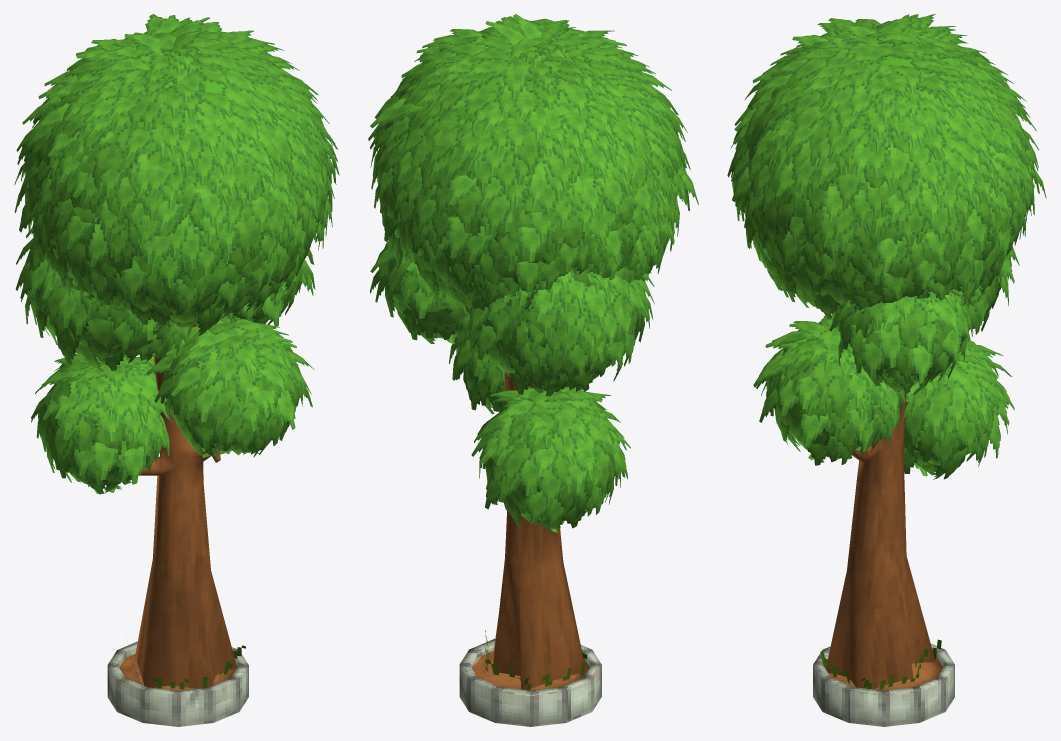
File: Tree1.glb
3 views of the same model, side by side, from view 1: azimuth 30°, elevation 25°; view 2: azimuth 150°, elevation 25°; view 3: azimuth 270°, elevation 25° (orthographic).
Parts seen in each view (by area): view 1: Cylinder.015; view 2: Cylinder.015; view 3: Cylinder.015.
Part boxes in pixels (x1,y1,x2,y2): Cylinder.015: (14, 14, 339, 726); Cylinder.015: (368, 14, 698, 726); Cylinder.015: (727, 14, 1046, 726).
Bounding box in the file's own units: 18.62 × 41.65 × 17.97.
Materials: 4 (3 with a texture image).
